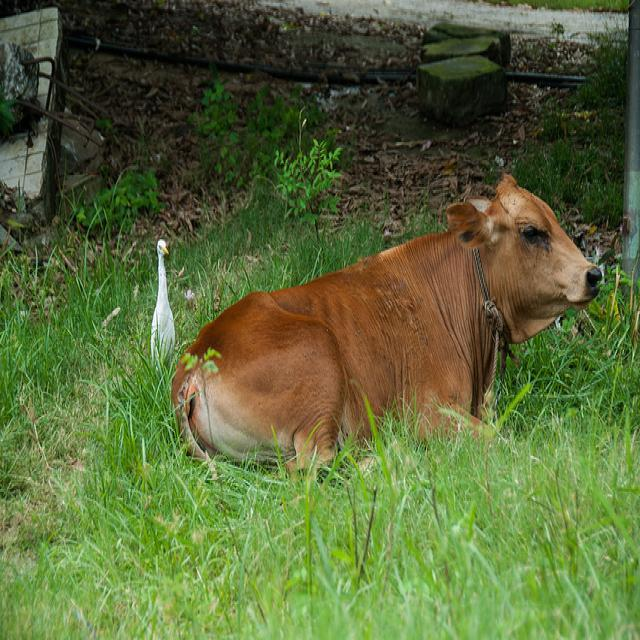cow: (165, 160, 600, 483)
